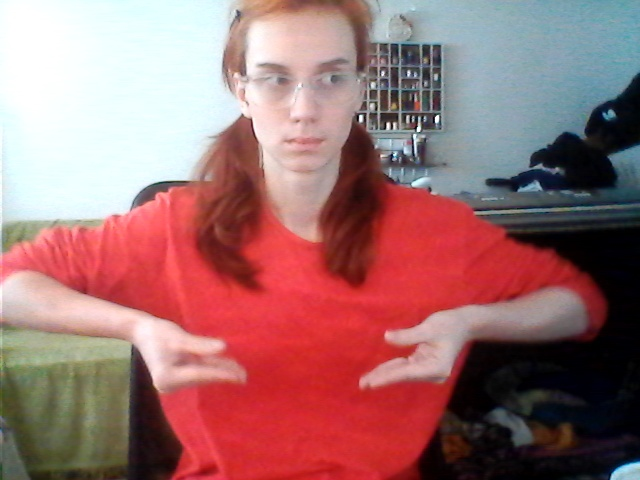drzat: (144, 309, 471, 406)
